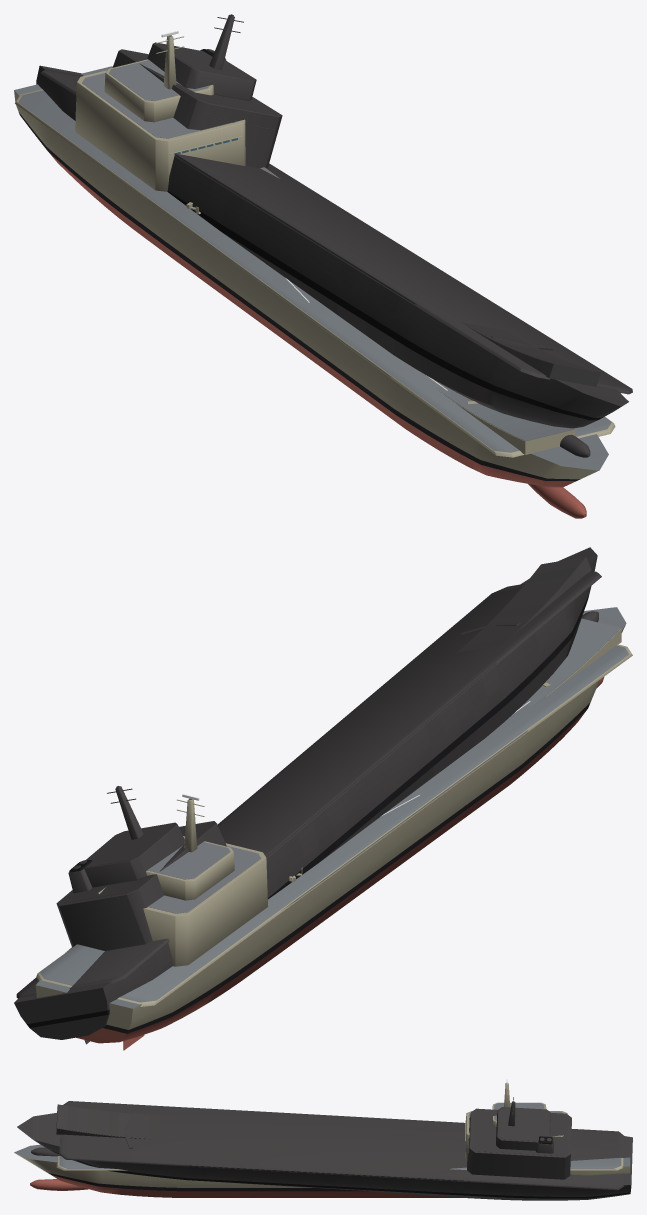
File: carrier__shahid_bagheri_drone_carrier.glb
3 views of the same model, one above another, from view 1: azimuth 30°, elevation 25°; view 2: azimuth 150°, elevation 25°; view 3: azimuth 270°, elevation 25° (orthographic). The views are drawn at different scales.
Parts seen in each view (by area): view 1: Wreck, Hull_Mesh; view 2: Wreck, Hull_Mesh; view 3: Wreck, Hull_Mesh.
Part boxes in pixels (bbox=[...]): Wreck: bbox=[36, 14, 632, 457]; Hull_Mesh: bbox=[14, 36, 615, 518]; Wreck: bbox=[14, 547, 601, 1044]; Hull_Mesh: bbox=[35, 607, 632, 1050]; Wreck: bbox=[17, 1097, 632, 1200]; Hull_Mesh: bbox=[14, 1083, 630, 1197].
Size of what is drawn, in the model's own units: 38.85 by 49.32 by 251.
